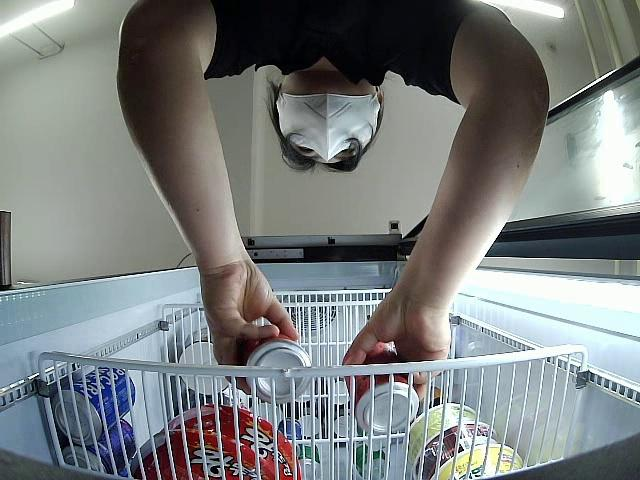00_hand: (202, 265, 301, 391), (343, 298, 454, 401)
11_cocaColaZero: (342, 344, 421, 434), (244, 329, 313, 403)
